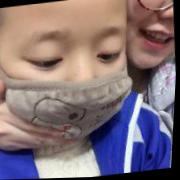NONE: (121, 1, 180, 74)
WRONG: (1, 2, 137, 145)
